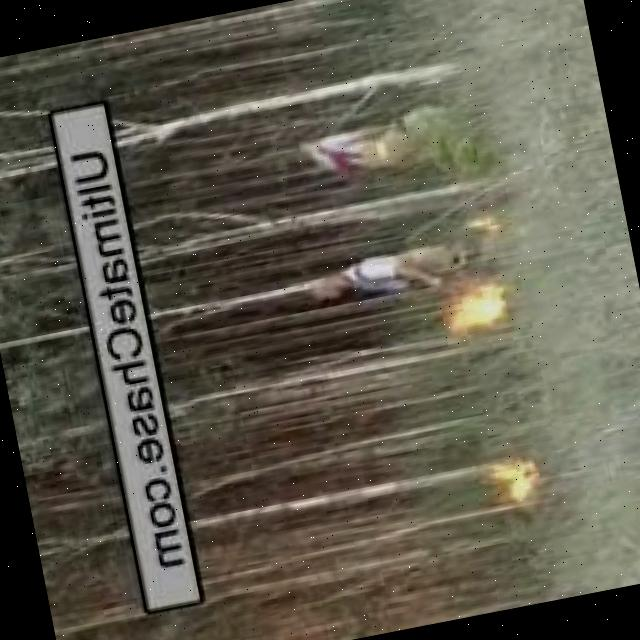fire: (445, 282, 519, 340), (488, 455, 545, 505), (464, 211, 501, 237)
